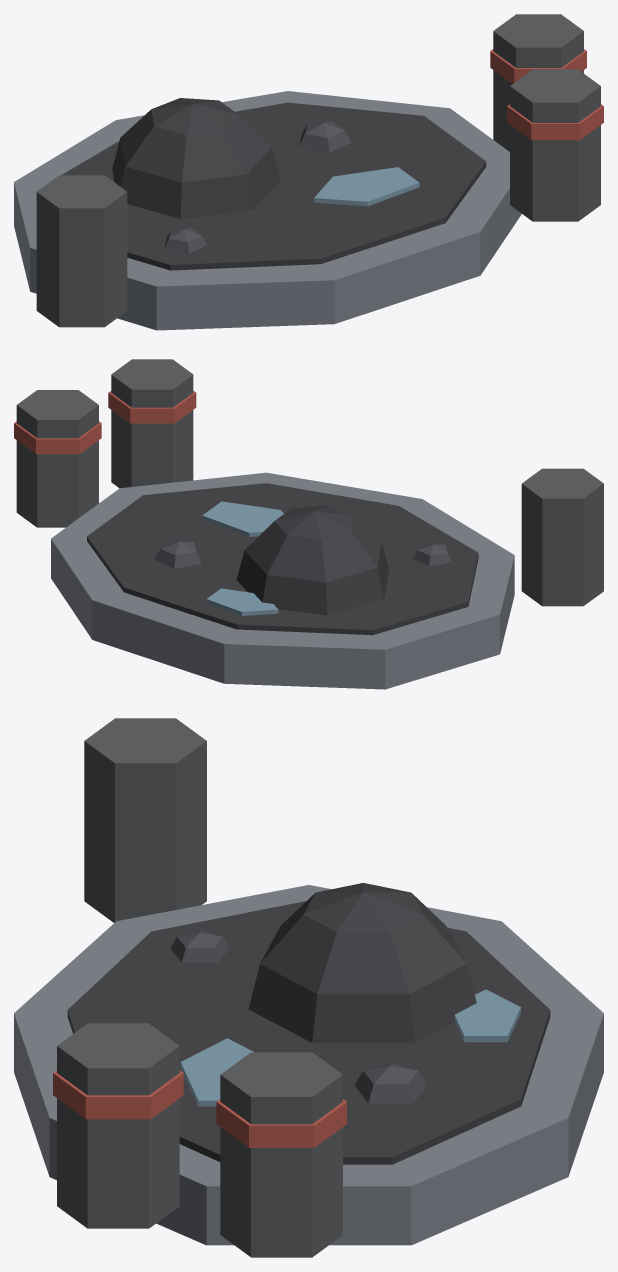
File: oil.glb
The picture shows the model from 3 angles, top to bottom: view 1: azimuth 30°, elevation 25°; view 2: azimuth 150°, elevation 25°; view 3: azimuth 270°, elevation 25°; orthographic projection. The views are drawn at different scales.
Parts seen in each view (by area): view 1: LOD0; view 2: LOD0; view 3: LOD0.
Boxes of the visible parts, left/top/right/bottom form: LOD0: left=14, top=14, right=603, bottom=330; LOD0: left=14, top=359, right=603, bottom=689; LOD0: left=14, top=718, right=603, bottom=1257.
Size of what is drawn, in the model's own units: 0.7926 by 0.192 by 0.52.
